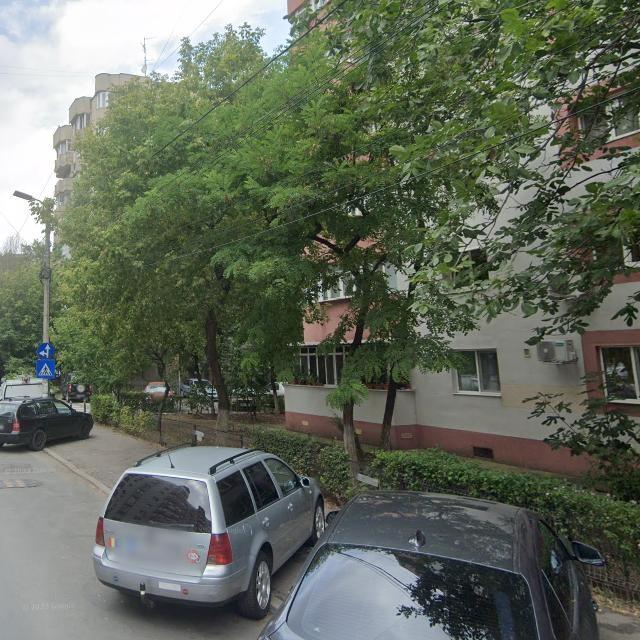info_crosswalk: (36, 359, 56, 378)
